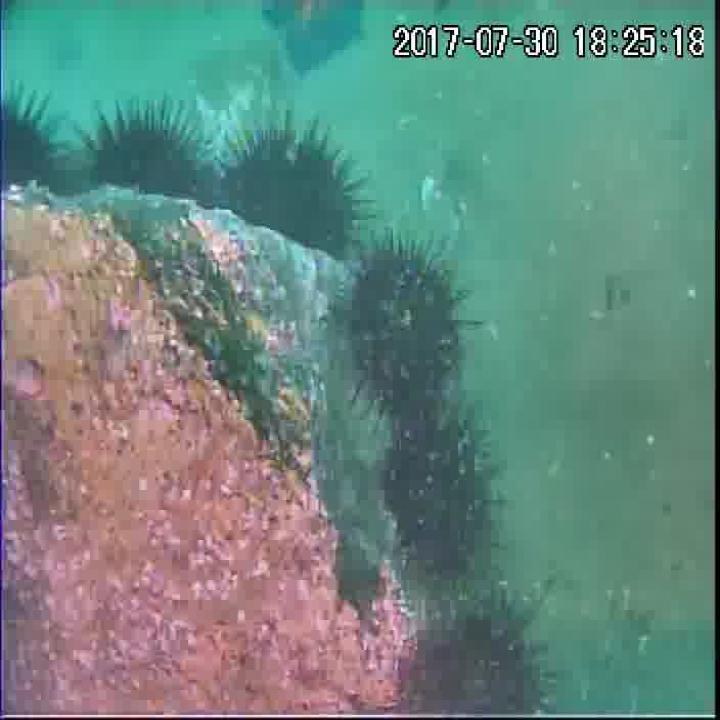echinus: (340, 242, 470, 408), (373, 414, 500, 575), (217, 125, 364, 260), (399, 599, 554, 720), (70, 105, 204, 207), (0, 89, 82, 205)
starfish: (260, 0, 374, 85)
